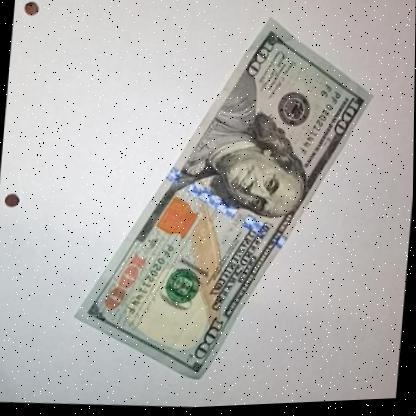one_hundred-front: (64, 0, 374, 400)
